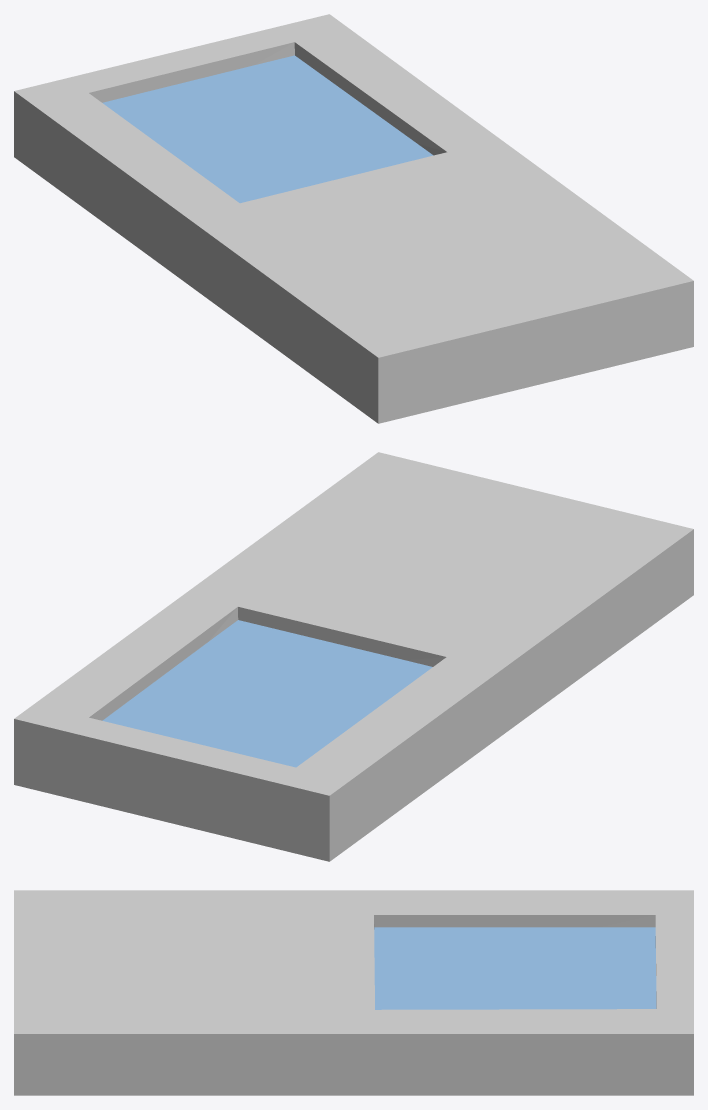
Rendered from Door.fbx.
3 views of the same model, one above another, from view 1: azimuth 30°, elevation 25°; view 2: azimuth 150°, elevation 25°; view 3: azimuth 270°, elevation 25° (orthographic). The views are drawn at different scales.
Parts seen in each view (by area): view 1: Door; view 2: Door; view 3: Door.
Boxes of the visible parts, box(x1,y1,x2,y2) form: Door: box(14, 14, 693, 423); Door: box(14, 452, 693, 861); Door: box(14, 890, 693, 1095).
Size of the model in its own units: 100 by 20 by 200.
